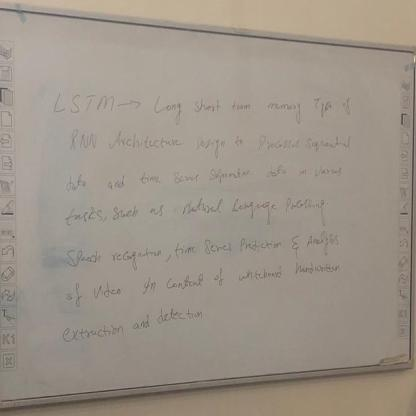Handwritten text: (52, 241, 355, 315), (48, 82, 363, 130), (63, 120, 358, 170), (59, 222, 346, 272), (61, 149, 351, 197), (60, 186, 342, 232), (56, 299, 217, 353)
Whiteboard: (0, 8, 415, 416)
